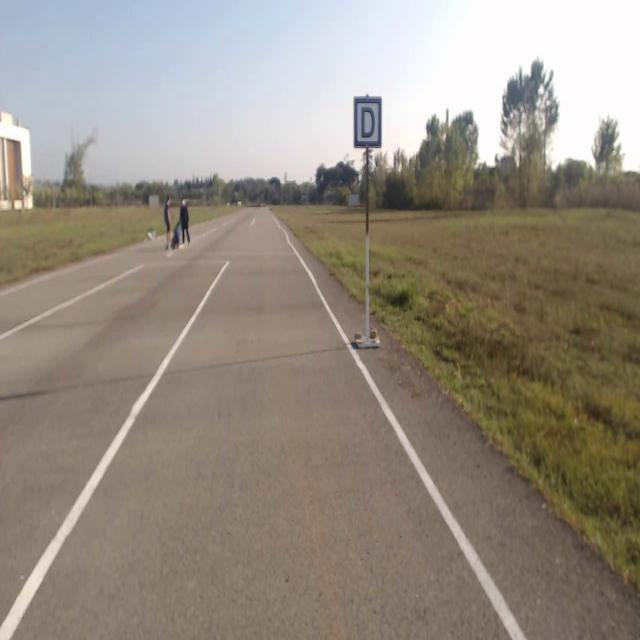durak: (353, 97, 382, 147)
